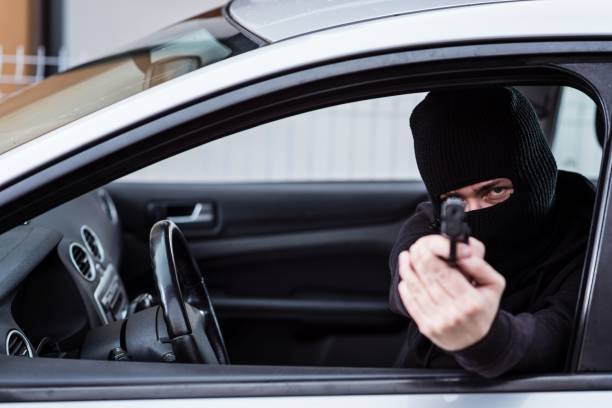gun: (441, 196, 467, 268)
